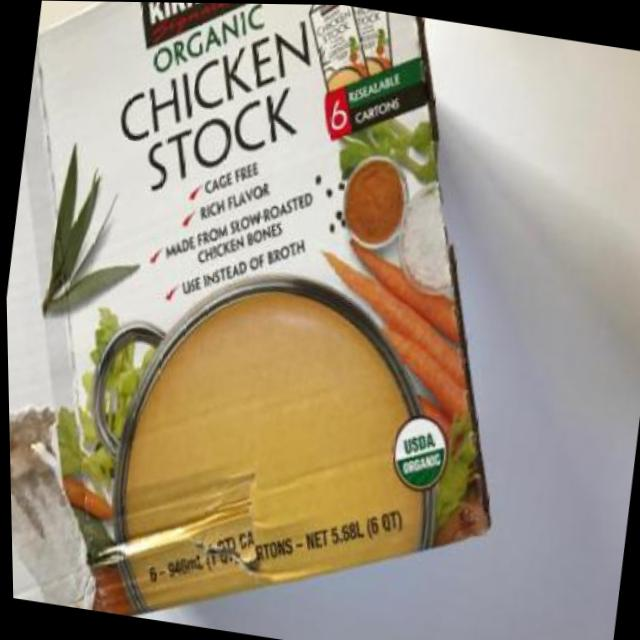box: (0, 0, 570, 640)
